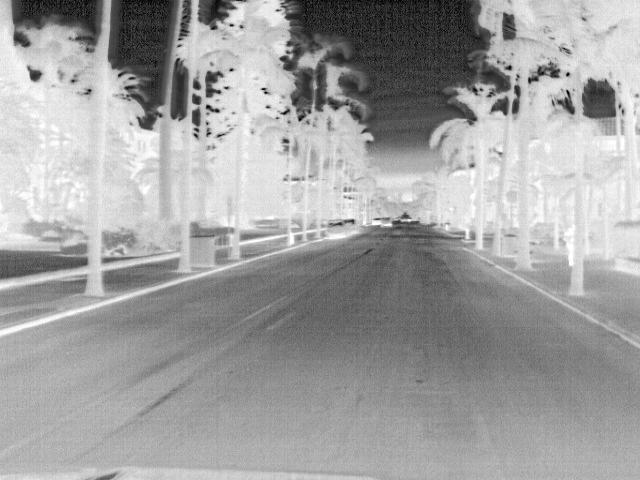car: (324, 221, 347, 240), (341, 218, 358, 234), (382, 214, 395, 228), (369, 215, 384, 226)
person: (563, 224, 577, 270)
